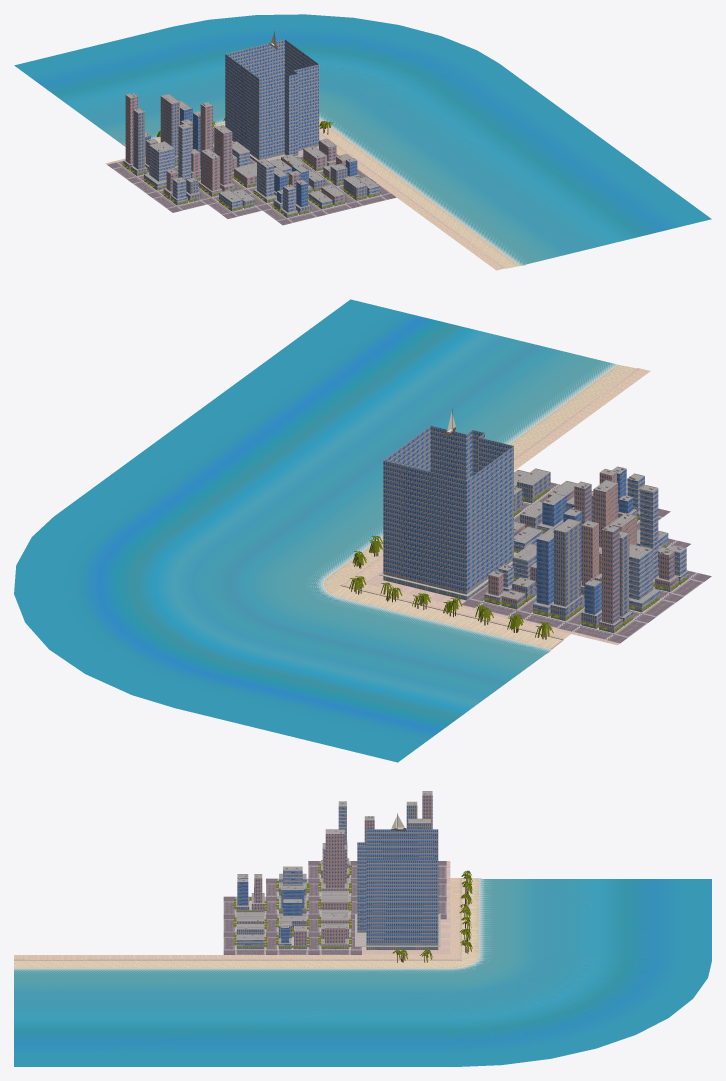
File: Near.fbx
3 renders of one model, top to bottom at view 1: azimuth 30°, elevation 25°; view 2: azimuth 150°, elevation 25°; view 3: azimuth 270°, elevation 25°, orthographic. The views are drawn at different scales.
Parts seen in each view (by area): view 1: Shallows, Buildings_Left, Tower, Buildings_Front, Coast, Ground, Trees; view 2: Shallows, Tower, Buildings_Left, Coast, Ground, Buildings_Front, Palms; view 3: Shallows, Tower, Coast, Ground, Buildings_Left, Buildings_Front, Trees, Palms.
Boxes of the visible parts, bbox=[...] form: Shallows: bbox=[14, 14, 711, 265]; Buildings_Left: bbox=[123, 93, 336, 205]; Tower: bbox=[225, 39, 319, 158]; Buildings_Front: bbox=[219, 154, 379, 217]; Coast: bbox=[122, 119, 525, 270]; Ground: bbox=[105, 128, 396, 225]; Trees: bbox=[122, 159, 380, 215]; Shallows: bbox=[14, 299, 617, 762]; Tower: bbox=[383, 426, 513, 591]; Buildings_Left: bbox=[484, 480, 688, 633]; Coast: bbox=[324, 364, 650, 653]; Ground: bbox=[355, 482, 711, 645]; Buildings_Front: bbox=[514, 466, 668, 547]; Palms: bbox=[349, 535, 553, 637]; Shallows: bbox=[14, 879, 711, 1066]; Tower: bbox=[357, 829, 438, 943]; Coast: bbox=[14, 878, 480, 968]; Ground: bbox=[223, 861, 468, 962]; Buildings_Left: bbox=[321, 791, 432, 949]; Buildings_Front: bbox=[236, 866, 306, 949]; Trees: bbox=[233, 863, 351, 948]; Palms: bbox=[392, 870, 472, 962].
Size of the model in its own units: 1260 by 354 by 1815.
4 materials, 4 textured.
